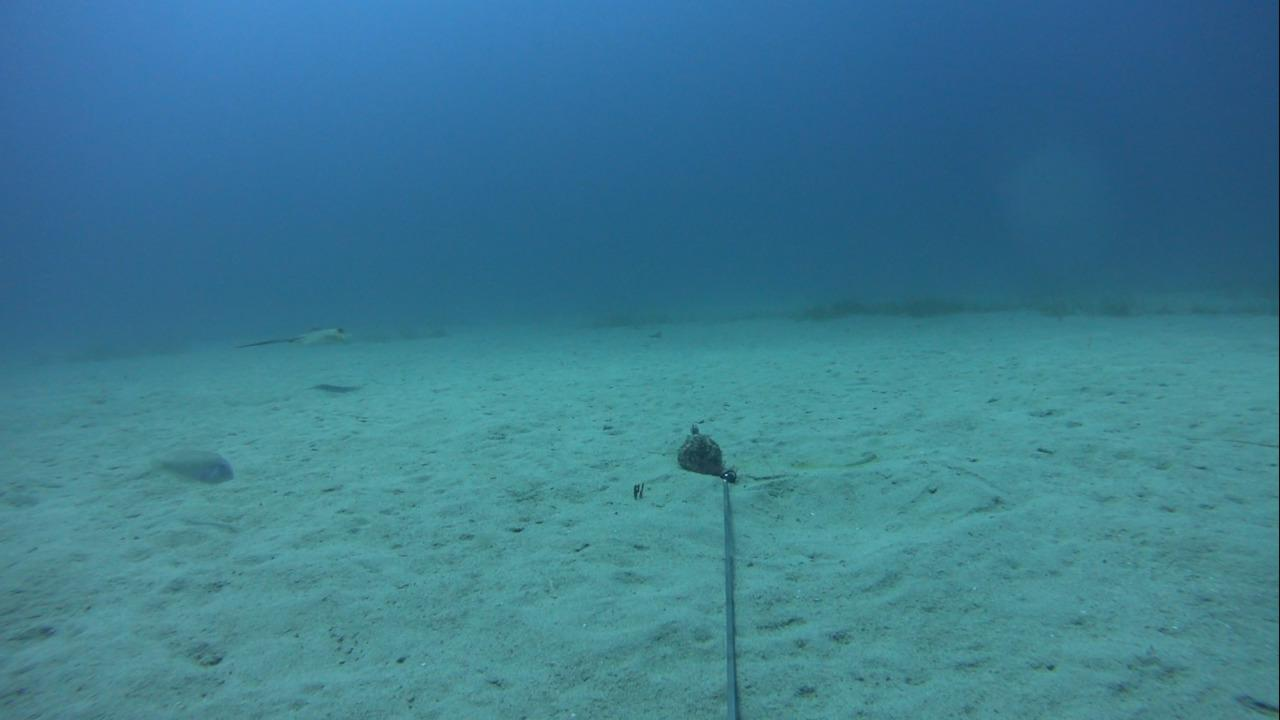myliobatis: (214, 316, 360, 358)
raor: (135, 450, 231, 484)
